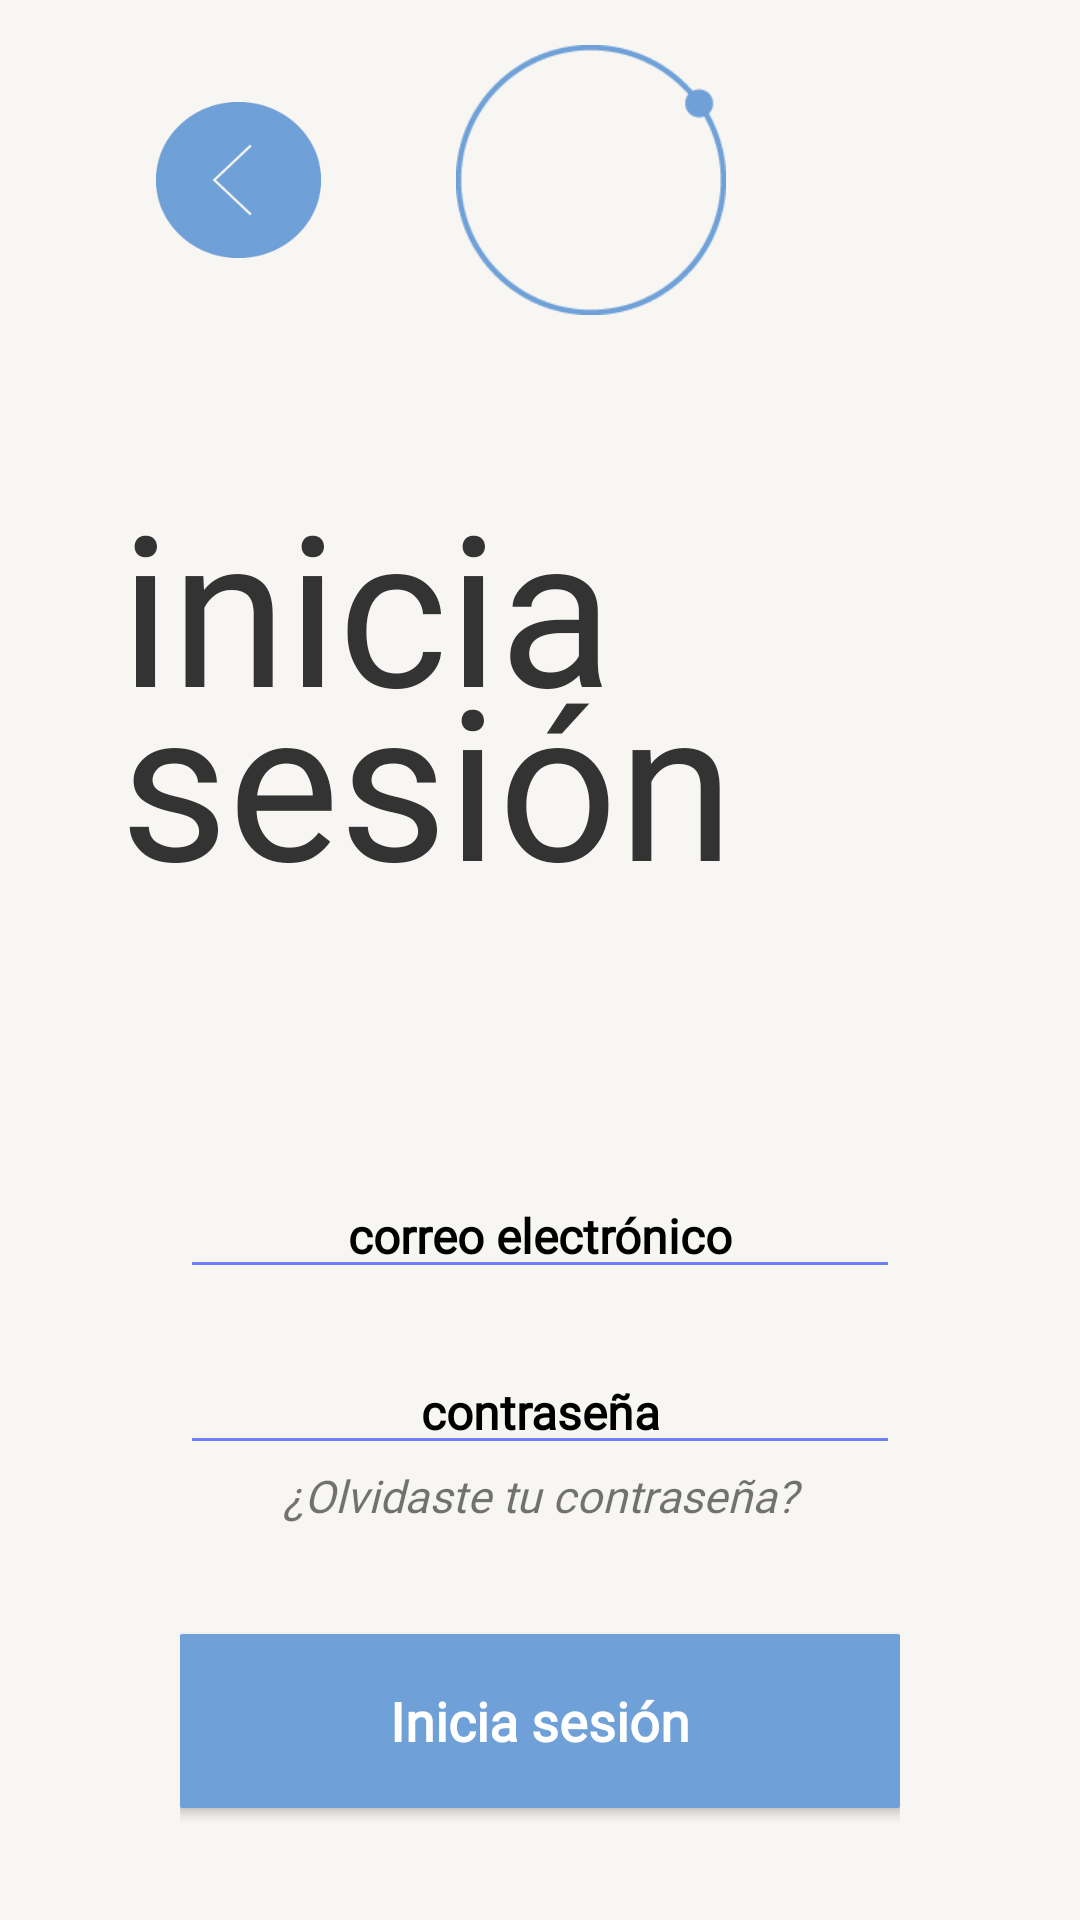

Icons on this 1080px×1920px Android screen, each with its box as (x1, y1, x2, y2):
regresar xxxdpi: (156, 102, 321, 258)
